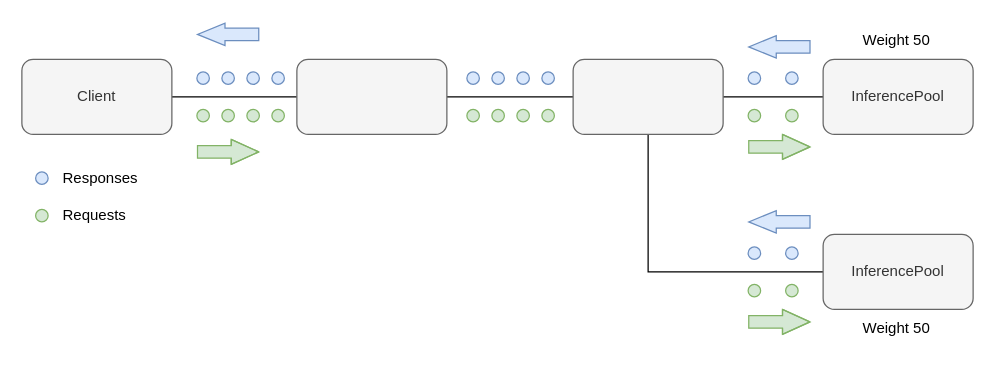
This 995x368 diagram has some shape labels left out. Here are the shapes that lost their labels. From the top down, the box of each, then its label:
(296, 58, 447, 134): Gateway
(572, 58, 723, 134): HTTPRoute
